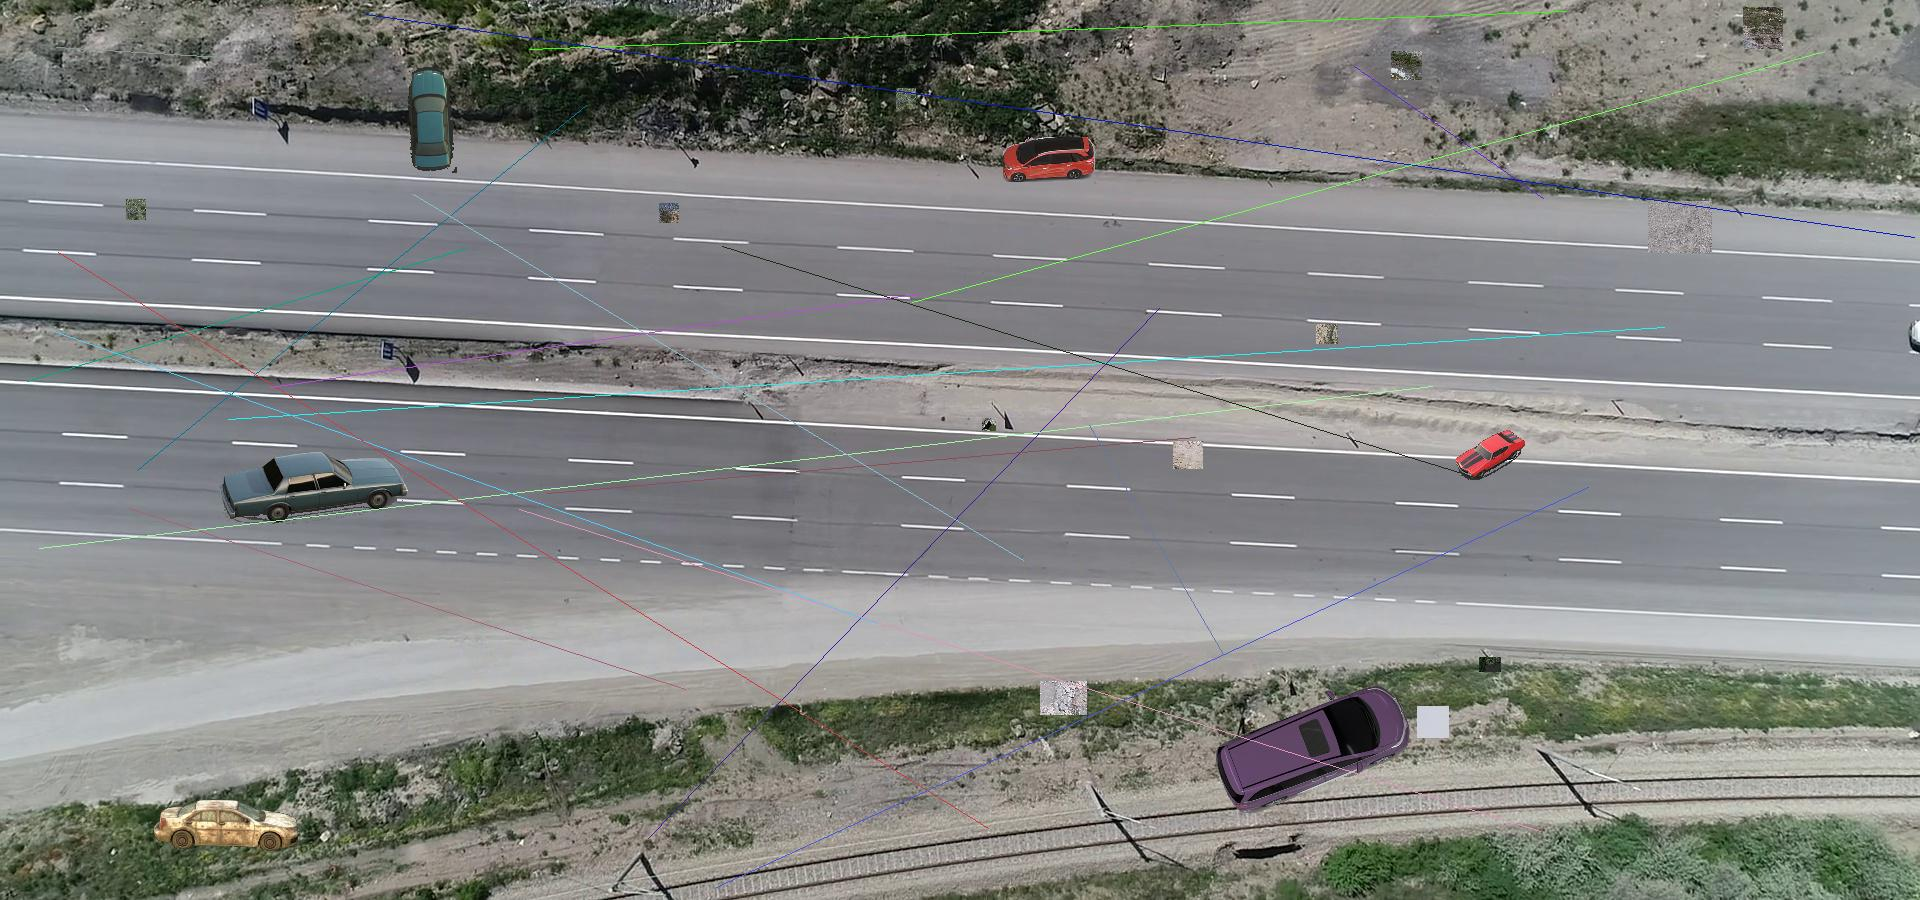arac: (1212, 677, 1411, 816), (216, 451, 413, 524), (151, 798, 304, 851), (407, 66, 457, 173), (1003, 137, 1095, 182), (1456, 430, 1524, 480)
